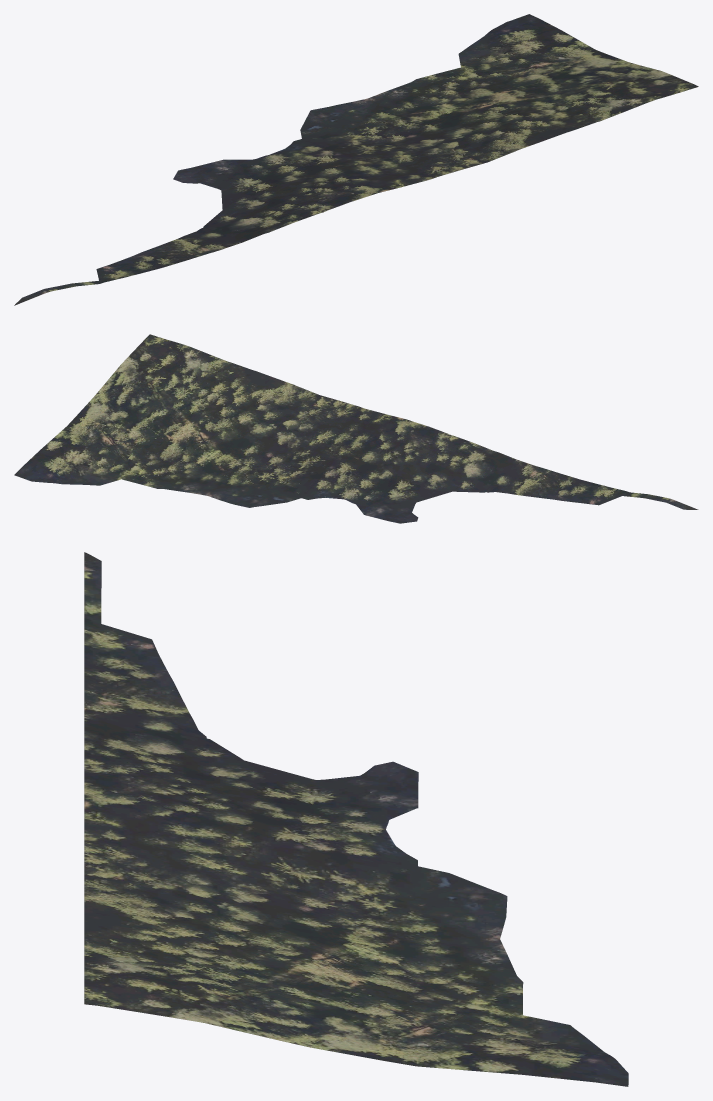
File: CM_Terrain_24489844_6823070.fbx
The picture shows the model from 3 angles, top to bottom: view 1: azimuth 30°, elevation 25°; view 2: azimuth 150°, elevation 25°; view 3: azimuth 270°, elevation 25°; orthographic projection. The views are drawn at different scales.
Parts seen in each view (by area): view 1: CM_Terrain_24489844_6823070_LOD0; view 2: CM_Terrain_24489844_6823070_LOD0; view 3: CM_Terrain_24489844_6823070_LOD0.
Boxes of the visible parts, bbox=[...] form: CM_Terrain_24489844_6823070_LOD0: bbox=[14, 14, 698, 305]; CM_Terrain_24489844_6823070_LOD0: bbox=[14, 334, 698, 523]; CM_Terrain_24489844_6823070_LOD0: bbox=[84, 552, 628, 1086].
Size of what is drawn, in the model's own units: 179 by 14.78 by 76.92.
